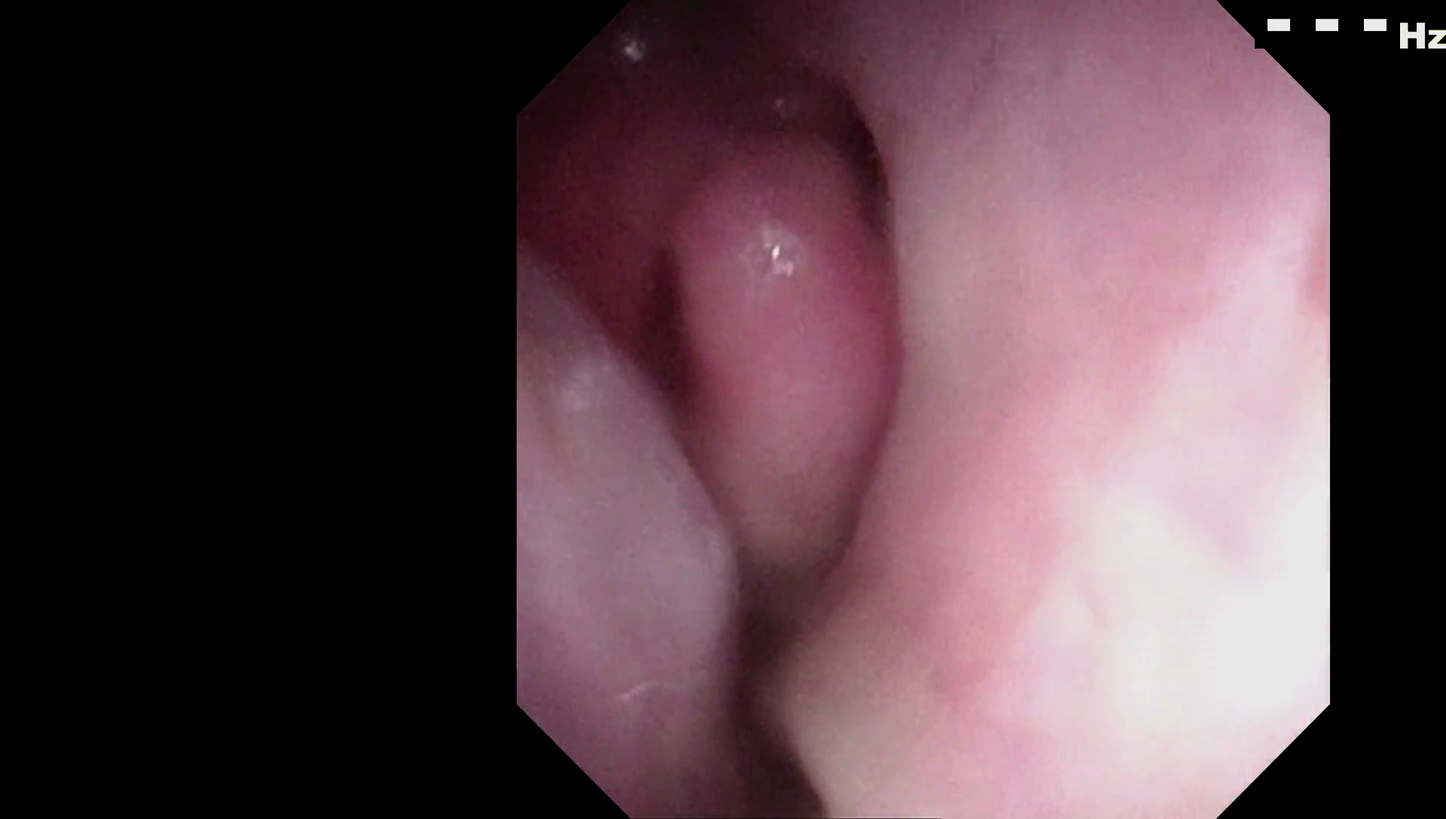close_wall: (923, 138, 1306, 785)
next: (672, 537, 859, 819), (816, 68, 929, 232)
